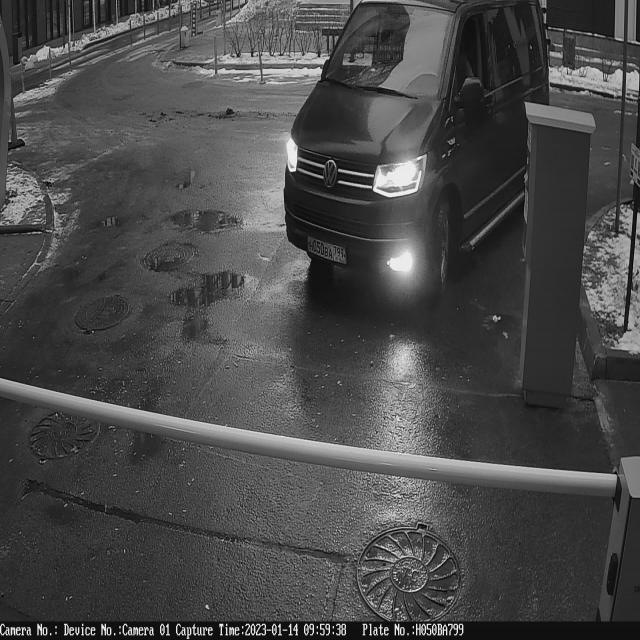car-plate-numbers: (306, 232, 349, 269)
